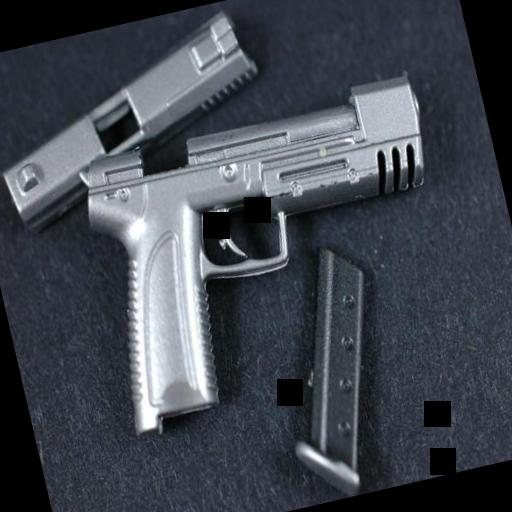Handgun: (53, 50, 485, 454)
